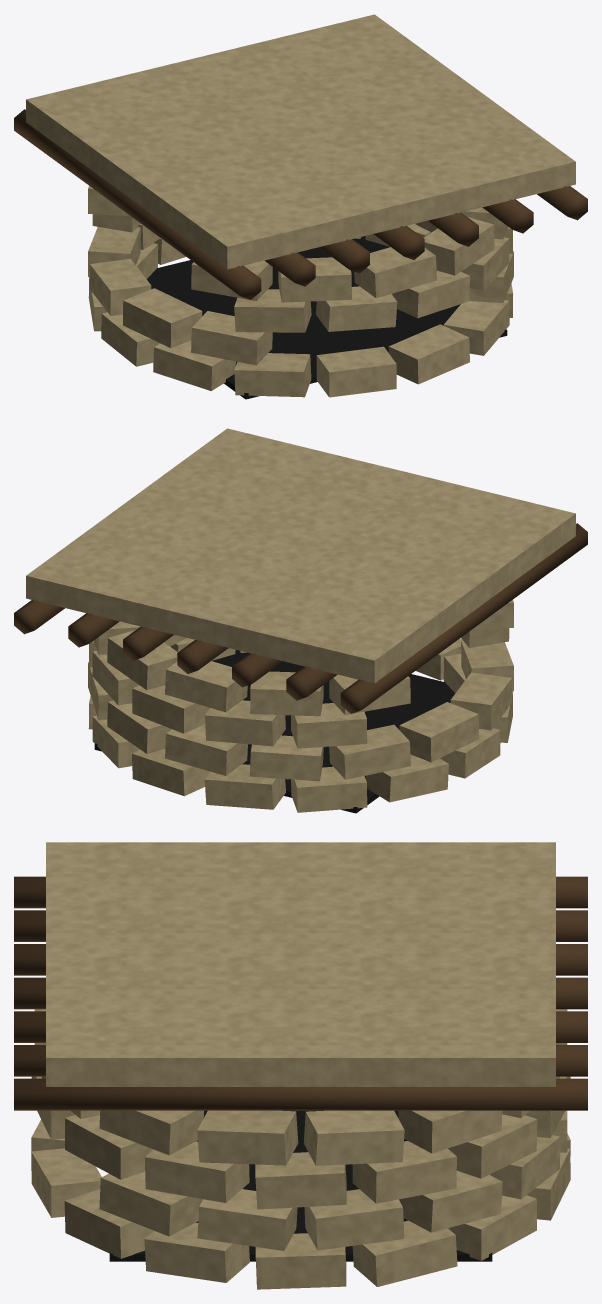
File: bunker.glb
The picture shows the model from 3 angles, top to bottom: view 1: azimuth 30°, elevation 25°; view 2: azimuth 150°, elevation 25°; view 3: azimuth 270°, elevation 25°; orthographic projection. The views are drawn at different scales.
Visible parts, largest first — view 1: Bunker; view 2: Bunker; view 3: Bunker.
Boxes of the visible parts, x1,y1,x2,y2 form: Bunker: (14, 14, 587, 399); Bunker: (14, 428, 587, 813); Bunker: (14, 842, 587, 1289).
Size of the model in its own units: 3.38 by 1.6 by 3.6.
3 materials, 1 textured.
